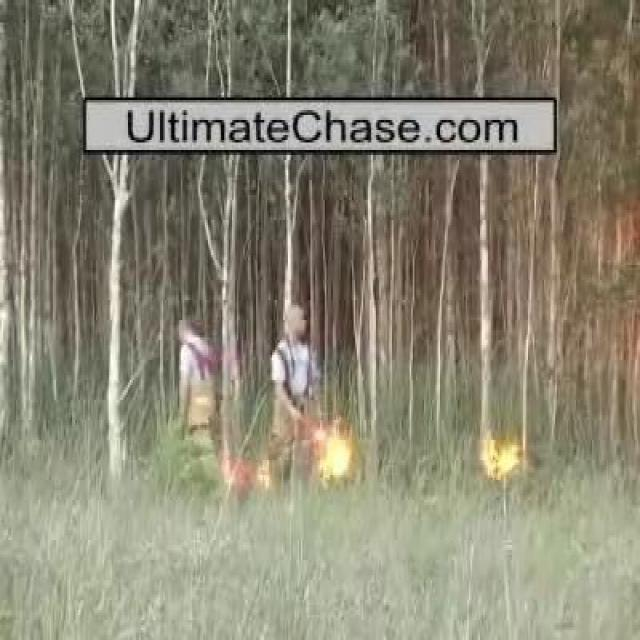Fire: (479, 434, 519, 481), (321, 430, 348, 482)
